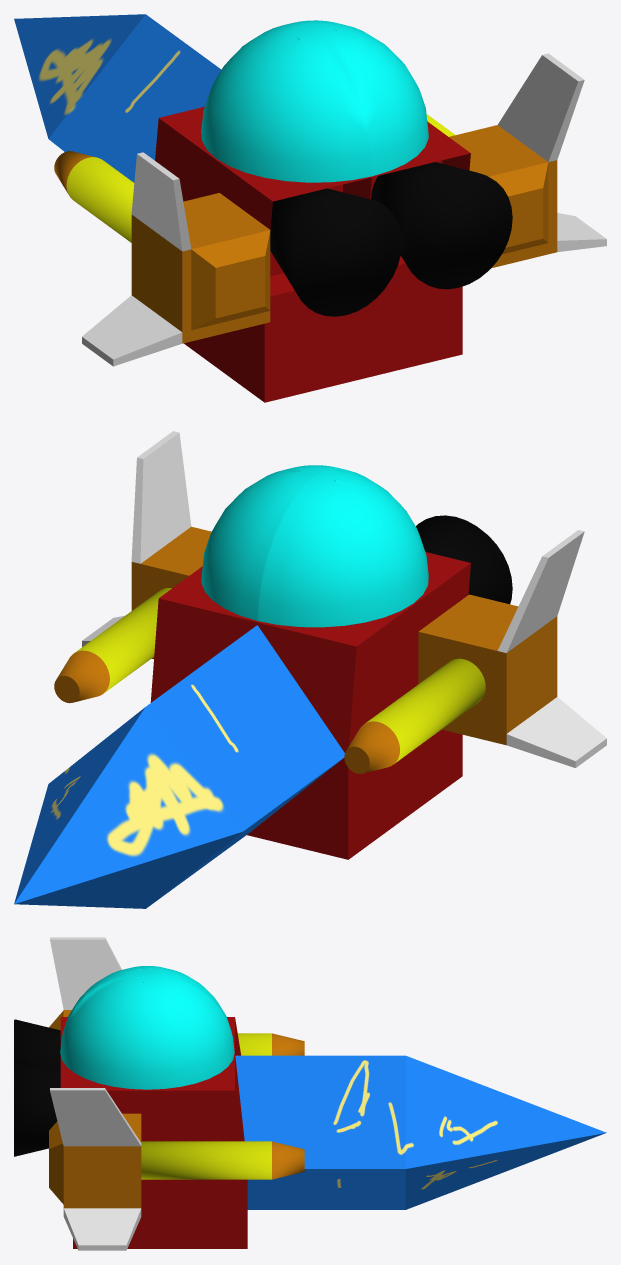
File: Gumi.fbx
3 views of the same model, one above another, from view 1: azimuth 30°, elevation 25°; view 2: azimuth 150°, elevation 25°; view 3: azimuth 270°, elevation 25° (orthographic). The views are drawn at different scales.
Parts seen in each view (by area): view 1: Nave Gumi; view 2: Nave Gumi; view 3: Nave Gumi.
Part boxes in pixels (x1,y1,x2,y2): Nave Gumi: (14, 14, 606, 402); Nave Gumi: (14, 431, 606, 908); Nave Gumi: (14, 937, 606, 1250).
Size of the model in its own units: 499 by 299 by 680.
